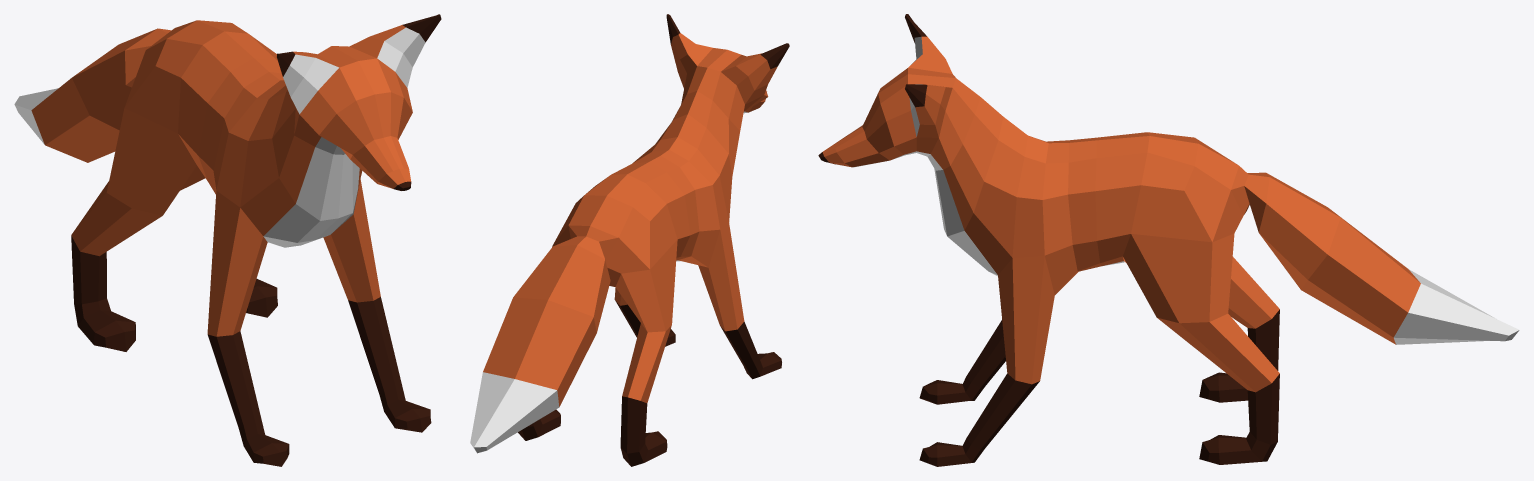
Rendered from Fox.fbx.
3 renders of one model, left to right at view 1: azimuth 30°, elevation 25°; view 2: azimuth 150°, elevation 25°; view 3: azimuth 270°, elevation 25°, orthographic. The views are drawn at different scales.
Parts seen in each view (by area): view 1: Cylinder.002; view 2: Cylinder.002; view 3: Cylinder.002.
Part boxes in pixels (x1,y1,x2,y2): Cylinder.002: (14, 14, 441, 466); Cylinder.002: (470, 14, 789, 466); Cylinder.002: (818, 14, 1519, 466).
Size of the model in its own units: 53.78 by 119 by 198.
